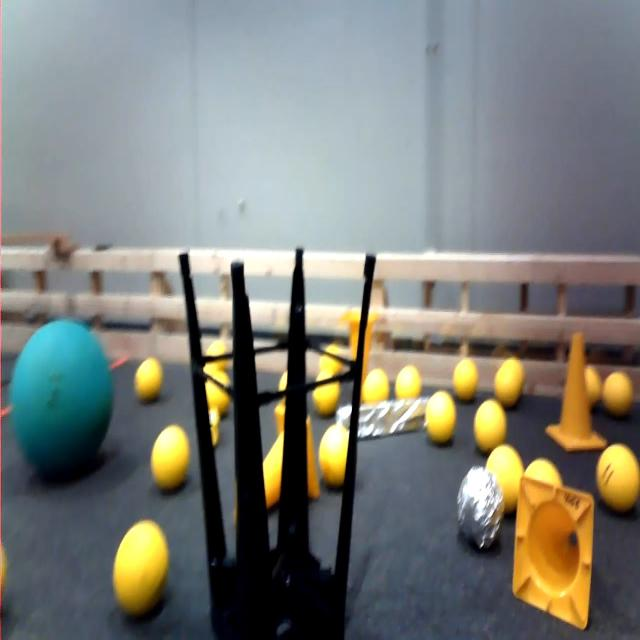fuel: (109, 517, 178, 625), (592, 430, 640, 518), (313, 412, 359, 499), (149, 426, 197, 500), (482, 444, 521, 514), (472, 389, 509, 453), (419, 387, 457, 448), (493, 349, 528, 412), (132, 353, 169, 405), (451, 350, 488, 402), (605, 366, 640, 418), (311, 361, 343, 416), (354, 361, 390, 409), (523, 462, 561, 502), (272, 366, 304, 409), (584, 353, 604, 406), (398, 361, 426, 395), (319, 343, 346, 375)
